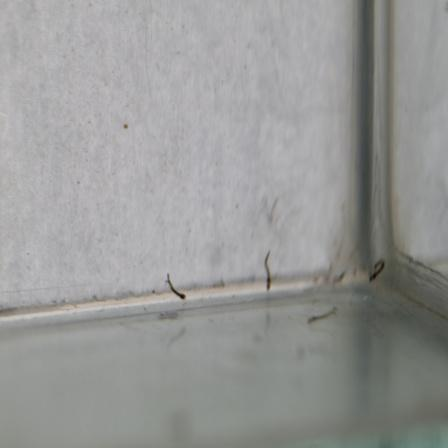Jentik-Nyamuk: (162, 269, 189, 305), (365, 256, 389, 286)
